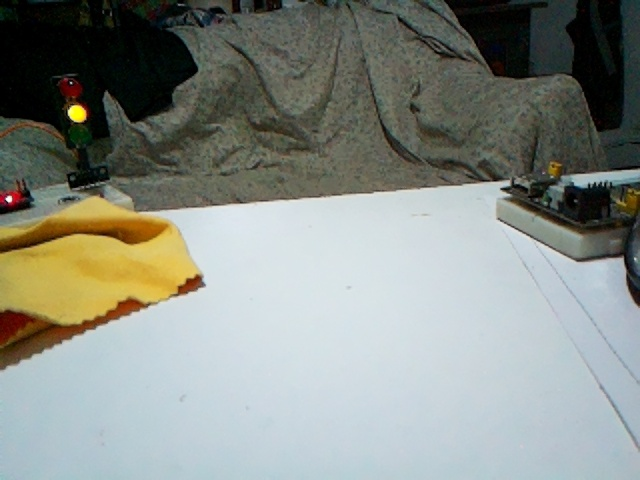traffic_light_yellow: (53, 74, 96, 151)
